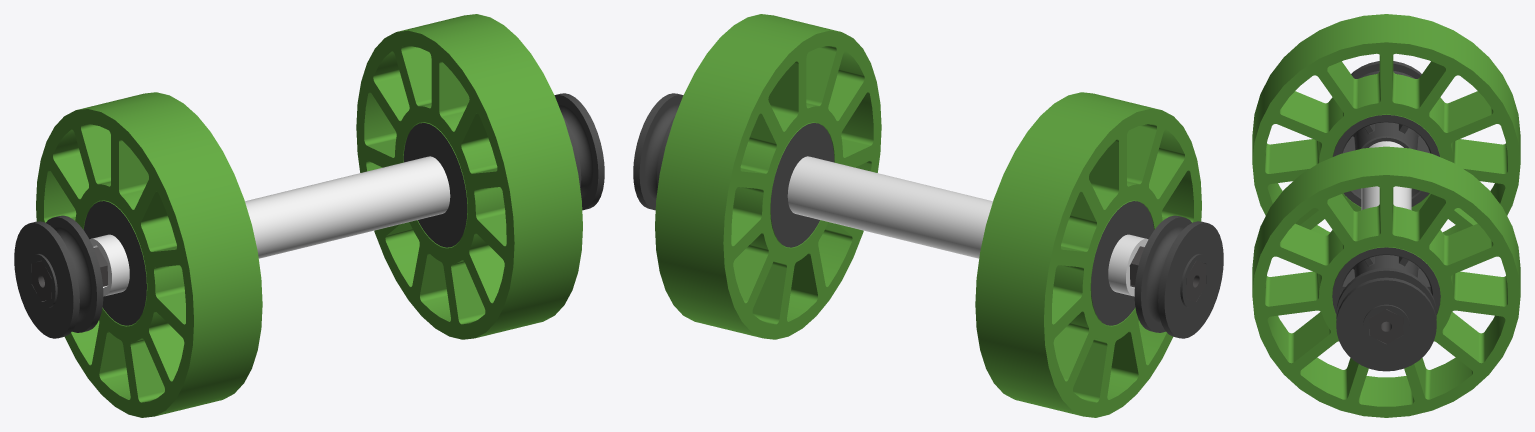
The picture shows the model from 3 angles, left to right: view 1: azimuth 30°, elevation 25°; view 2: azimuth 150°, elevation 25°; view 3: azimuth 270°, elevation 25°; orthographic projection. The views are drawn at different scales.
Parts seen in each view (by area): view 1: 4" OD 1/2" Hex Bore Compliant Wheel 35A (am-3480) (×2), Roller2, 1/4" Wide 1/2" Hex Bore Single Polycord Pulley (WCP-0096) (×2); view 2: 4" OD 1/2" Hex Bore Compliant Wheel 35A (am-3480) (×2), Roller2, 1/4" Wide 1/2" Hex Bore Single Polycord Pulley (WCP-0096) (×2); view 3: 4" OD 1/2" Hex Bore Compliant Wheel 35A (am-3480) (×2), 1/4" Wide 1/2" Hex Bore Single Polycord Pulley (WCP-0096) (×2), Roller2.
Part boxes in pixels (x1=…): 4" OD 1/2" Hex Bore Compliant Wheel 35A (am-3480) (×2): x1=36, y1=14, x2=582, y2=417; Roller2: x1=31, y1=156, x2=450, y2=301; 1/4" Wide 1/2" Hex Bore Single Polycord Pulley (WCP-0096) (×2): x1=14, y1=93, x2=604, y2=338; 4" OD 1/2" Hex Bore Compliant Wheel 35A (am-3480) (×2): x1=655, y1=14, x2=1201, y2=417; Roller2: x1=787, y1=156, x2=1206, y2=302; 1/4" Wide 1/2" Hex Bore Single Polycord Pulley (WCP-0096) (×2): x1=633, y1=93, x2=1223, y2=338; 4" OD 1/2" Hex Bore Compliant Wheel 35A (am-3480) (×2): x1=1252, y1=14, x2=1520, y2=417; 1/4" Wide 1/2" Hex Bore Single Polycord Pulley (WCP-0096) (×2): x1=1336, y1=61, x2=1436, y2=371; Roller2: x1=1361, y1=141, x2=1411, y2=344.
Size of the model in its own units: 0.1986 by 0.1016 by 0.1016.
